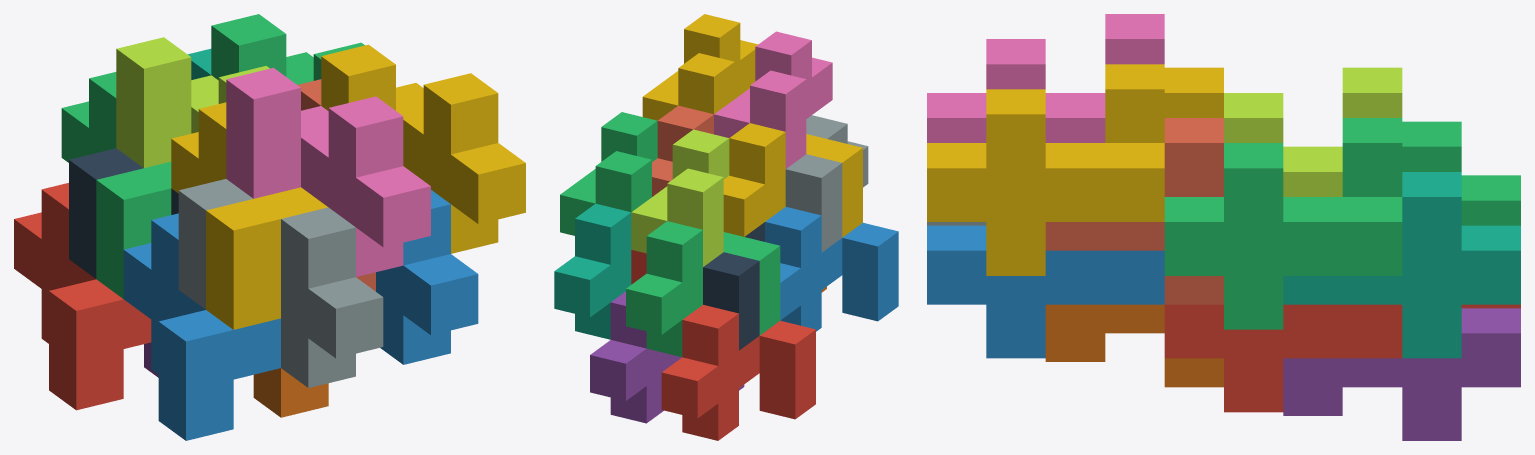
The model's file is tiling.obj.
3 views of the same model, side by side, from view 1: azimuth 30°, elevation 25°; view 2: azimuth 150°, elevation 25°; view 3: azimuth 270°, elevation 25° (orthographic). The views are drawn at different scales.
Parts seen in each view (by area): view 1: copy_2_domain_4, copy_2_domain_8, copy_2_domain_2, copy_1_domain_2, copy_1_domain_1, copy_1_domain_4, copy_2_domain_6, copy_1_domain_3, copy_2_domain_3, copy_2_domain_7, copy_2_domain_1, copy_1_domain_6 (+2 smaller); view 2: copy_1_domain_1, copy_1_domain_2, copy_1_domain_3, copy_1_domain_4, copy_2_domain_4, copy_1_domain_7, copy_2_domain_3, copy_2_domain_8, copy_2_domain_7, copy_1_domain_5, copy_2_domain_2, copy_2_domain_1 (+2 smaller); view 3: copy_2_domain_7, copy_2_domain_8, copy_1_domain_7, copy_2_domain_6, copy_1_domain_5, copy_2_domain_5, copy_2_domain_4, copy_1_domain_8, copy_2_domain_3, copy_1_domain_6, copy_1_domain_3, copy_1_domain_4.
Boxes of the visible parts, x1,y1,x2,y2 form: copy_2_domain_4: (226,68,430,276); copy_2_domain_8: (321,44,525,253); copy_2_domain_2: (178,179,383,387); copy_1_domain_2: (123,213,280,440); copy_1_domain_1: (14,183,151,410); copy_1_domain_4: (171,102,327,329); copy_2_domain_6: (376,190,478,364); copy_1_domain_3: (61,72,171,298); copy_2_domain_3: (116,37,269,167); copy_2_domain_7: (211,14,364,84); copy_2_domain_1: (69,148,178,278); copy_1_domain_6: (253,368,328,417); copy_1_domain_1: (661,305,815,440); copy_1_domain_2: (765,207,898,331); copy_1_domain_3: (626,221,780,356); copy_1_domain_4: (723,123,862,237); copy_2_domain_4: (714,31,832,168); copy_1_domain_7: (554,203,631,339); copy_2_domain_3: (631,129,729,266); copy_2_domain_8: (642,14,757,120); copy_2_domain_7: (560,112,657,235); copy_1_domain_5: (590,291,744,423); copy_2_domain_2: (785,115,868,252); copy_2_domain_1: (703,222,764,350); copy_2_domain_7: (1164,118,1402,329); copy_2_domain_8: (927,64,1164,275); copy_1_domain_7: (1283,172,1520,358); copy_2_domain_6: (927,225,1164,358); copy_1_domain_5: (1283,308,1520,440); copy_2_domain_5: (1164,304,1402,412); copy_2_domain_4: (927,14,1164,142); copy_1_domain_8: (1045,118,1223,304); copy_2_domain_3: (1224,67,1402,196); copy_1_domain_6: (1045,304,1223,387); copy_1_domain_3: (1402,121,1520,225); copy_1_domain_4: (1164,67,1223,117).
Size of the model in its own units: 6 by 7 by 10.
